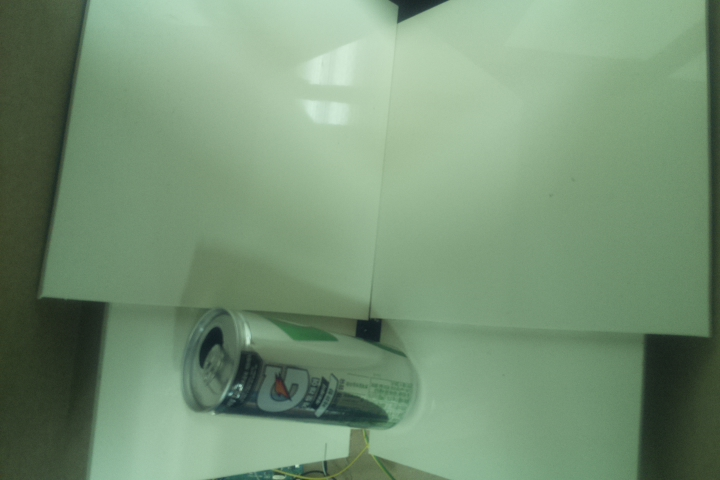can: (178, 305, 421, 432)
